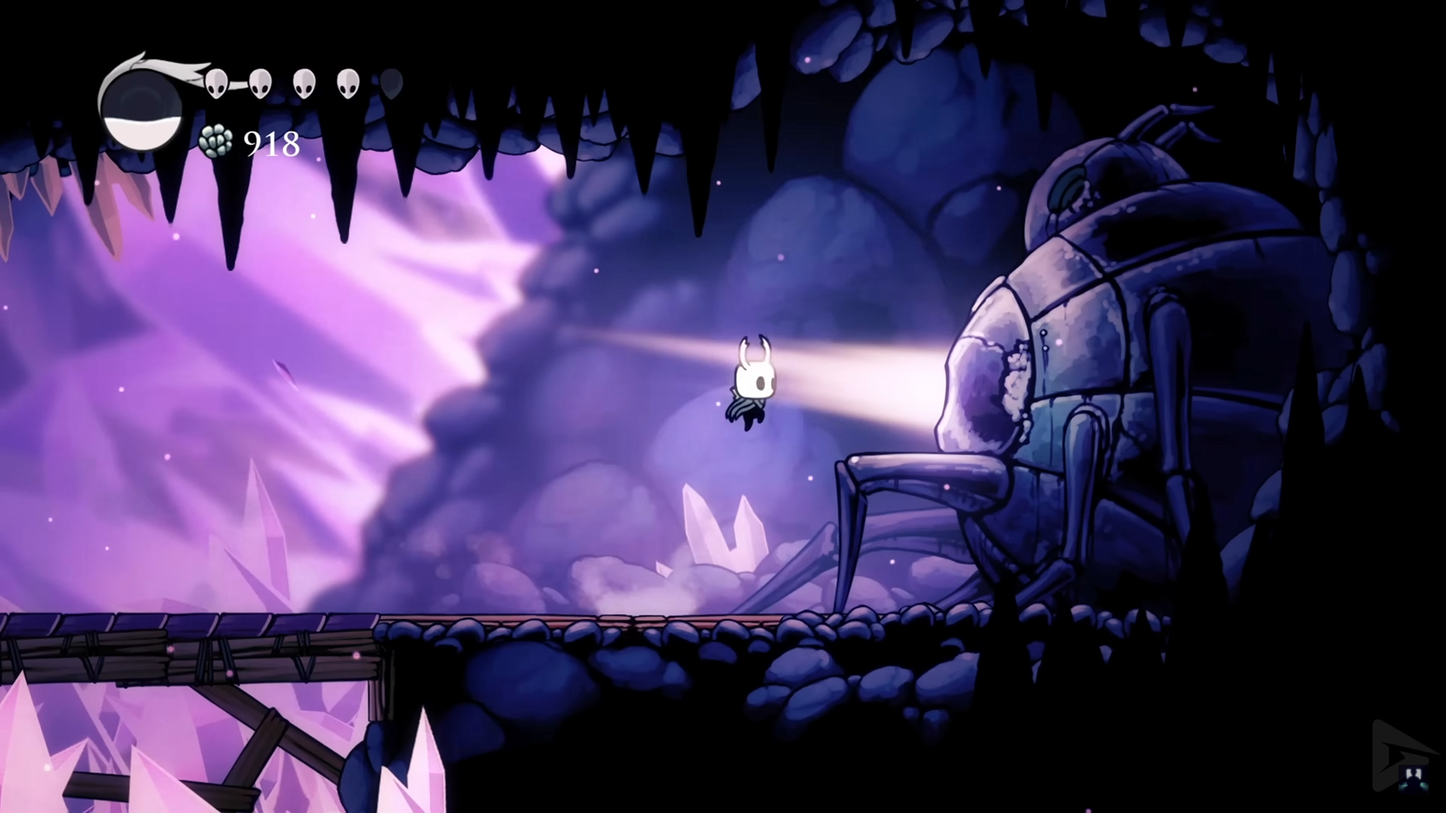HK: (719, 329, 785, 437)
